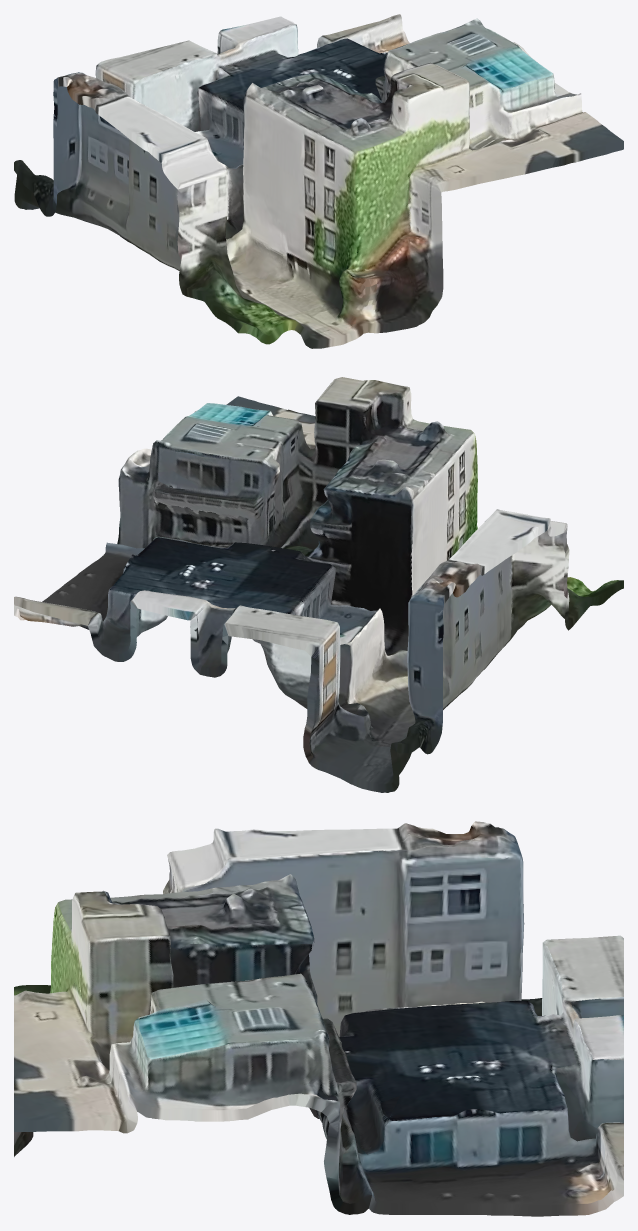
File: z20-167747-405192-h0-yup-uvflip-v3-world.glb
3 views of the same model, one above another, from view 1: azimuth 30°, elevation 25°; view 2: azimuth 150°, elevation 25°; view 3: azimuth 270°, elevation 25° (orthographic). The views are drawn at different scales.
Bounding box in the file's own units: 30.16 × 16.32 × 30.32.
Materials: 1 (1 with a texture image).
